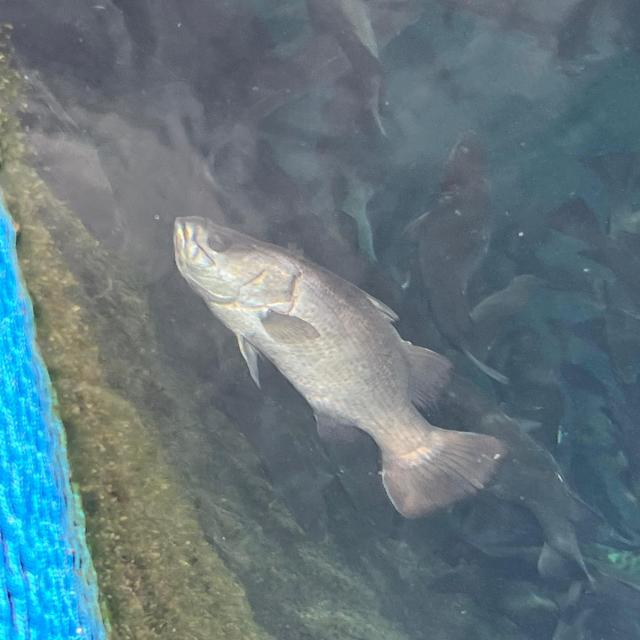ikan: (171, 213, 510, 521), (385, 128, 513, 386)
